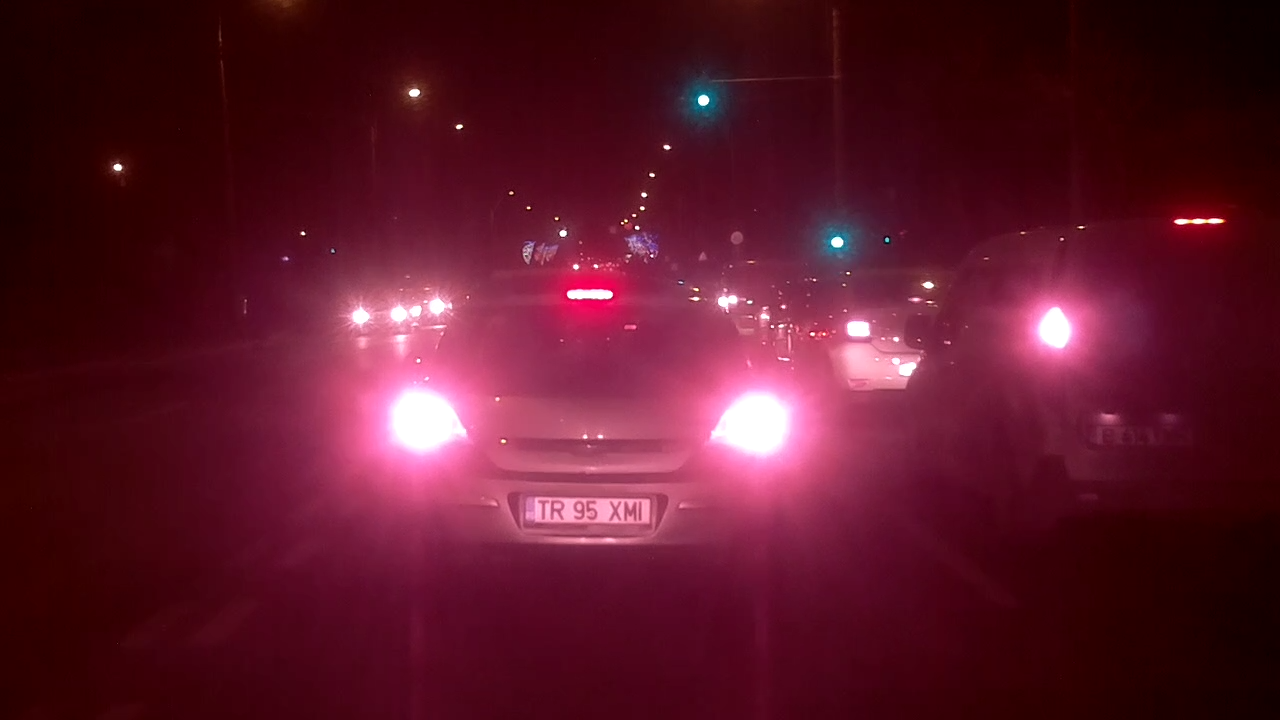license-plate: (514, 491, 657, 529)
